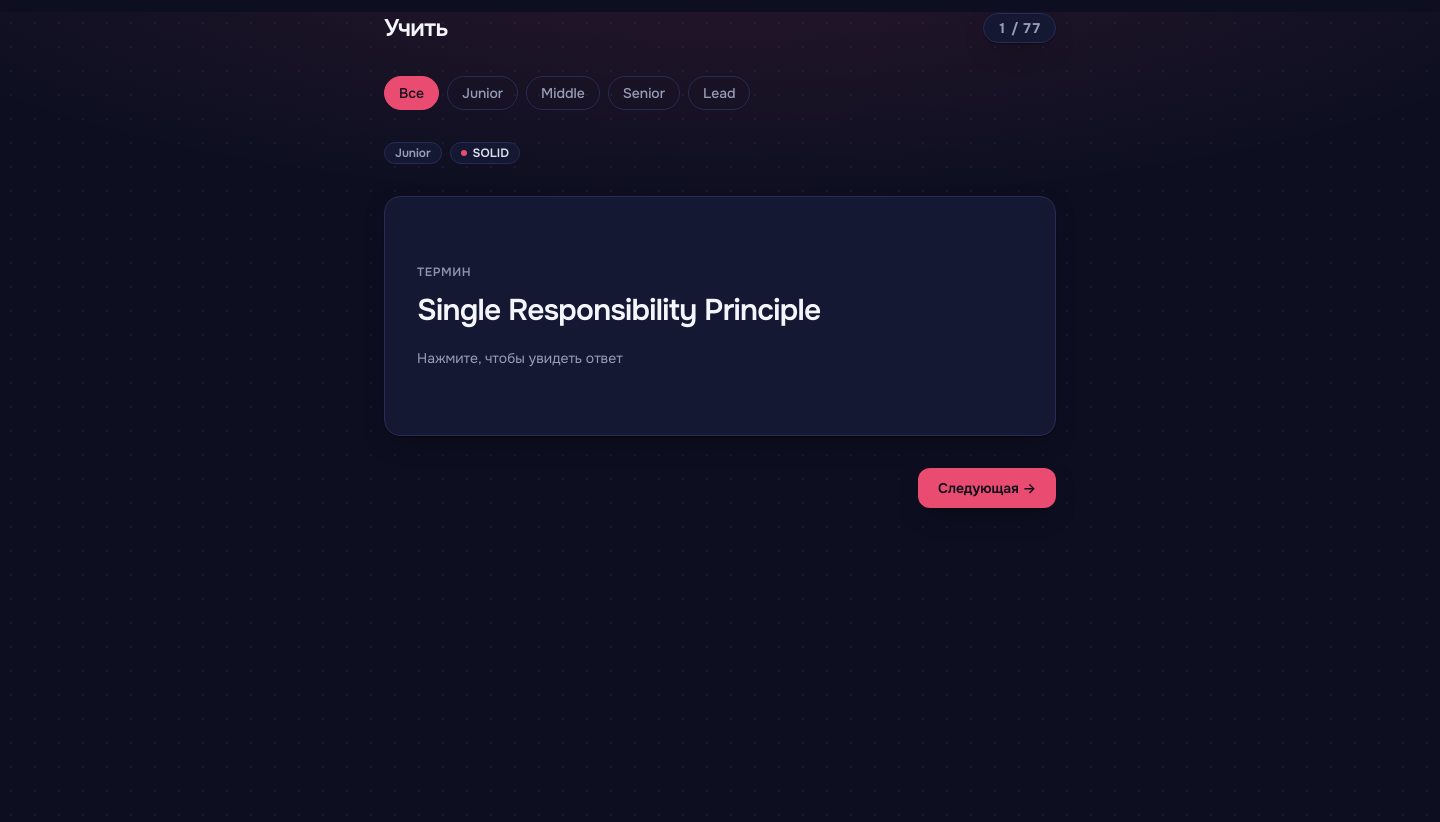
Learn › flips a card to reveal the definition
This screenshot has width=1440, height=822.
Click the button with aria-label "перевернуть": click(720, 316) [384,196,1056,436]
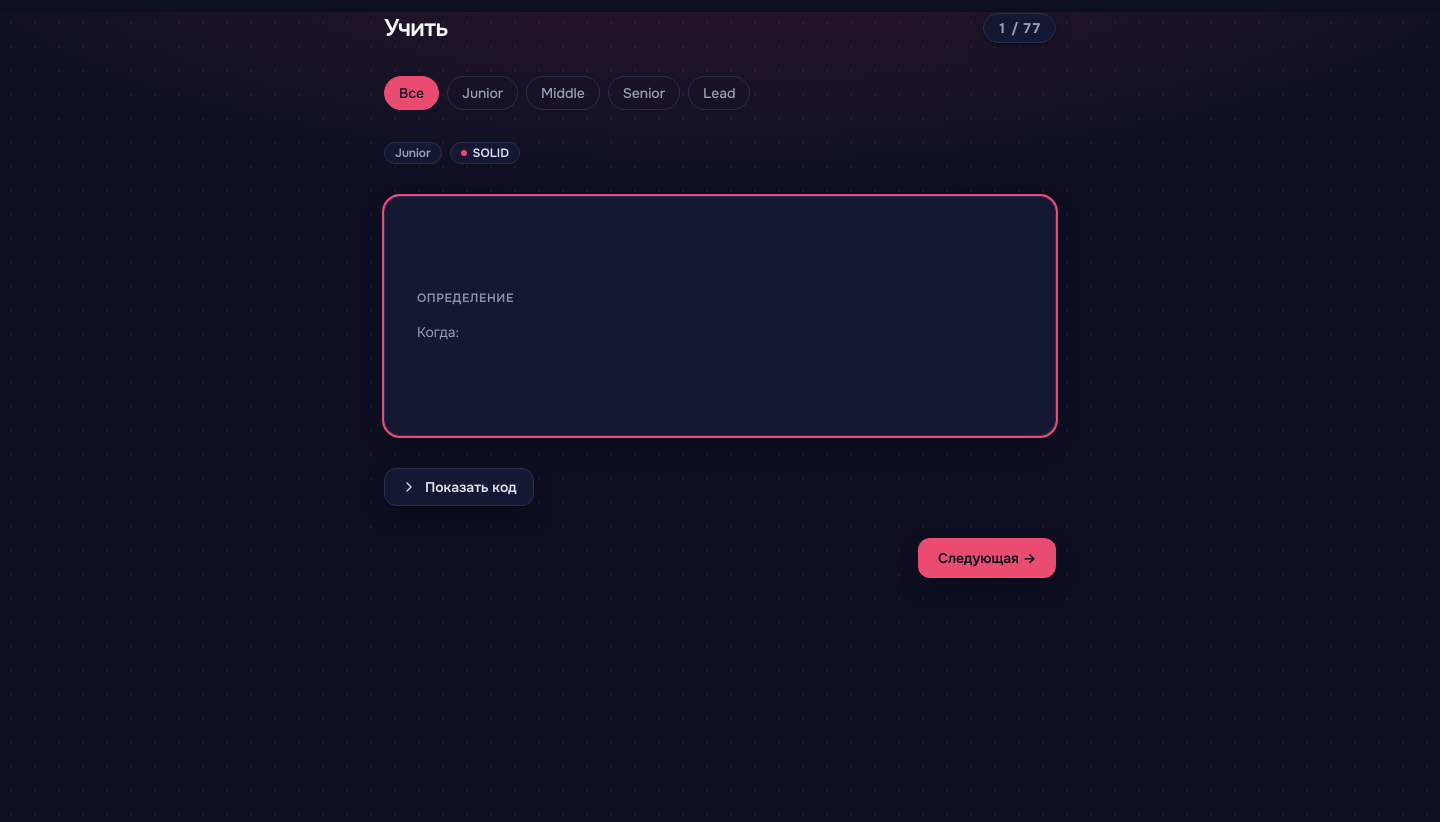
Expected: the text "Определение" is shown, [417,290,514,306]
